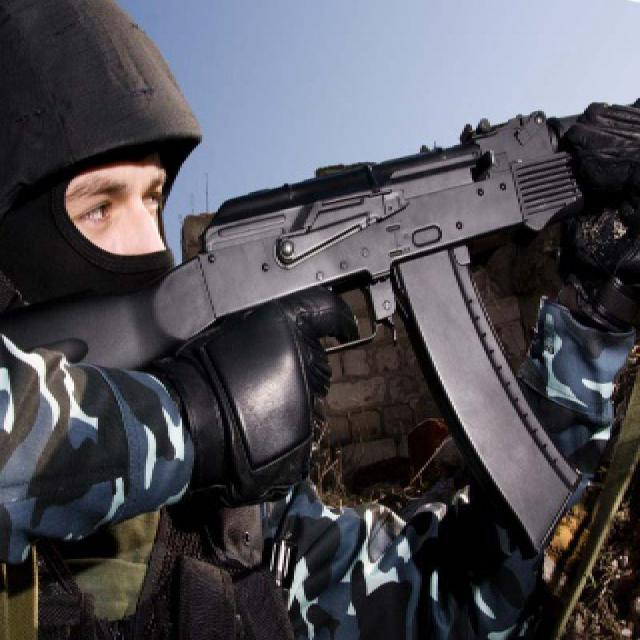long weapon: (16, 81, 636, 550)
